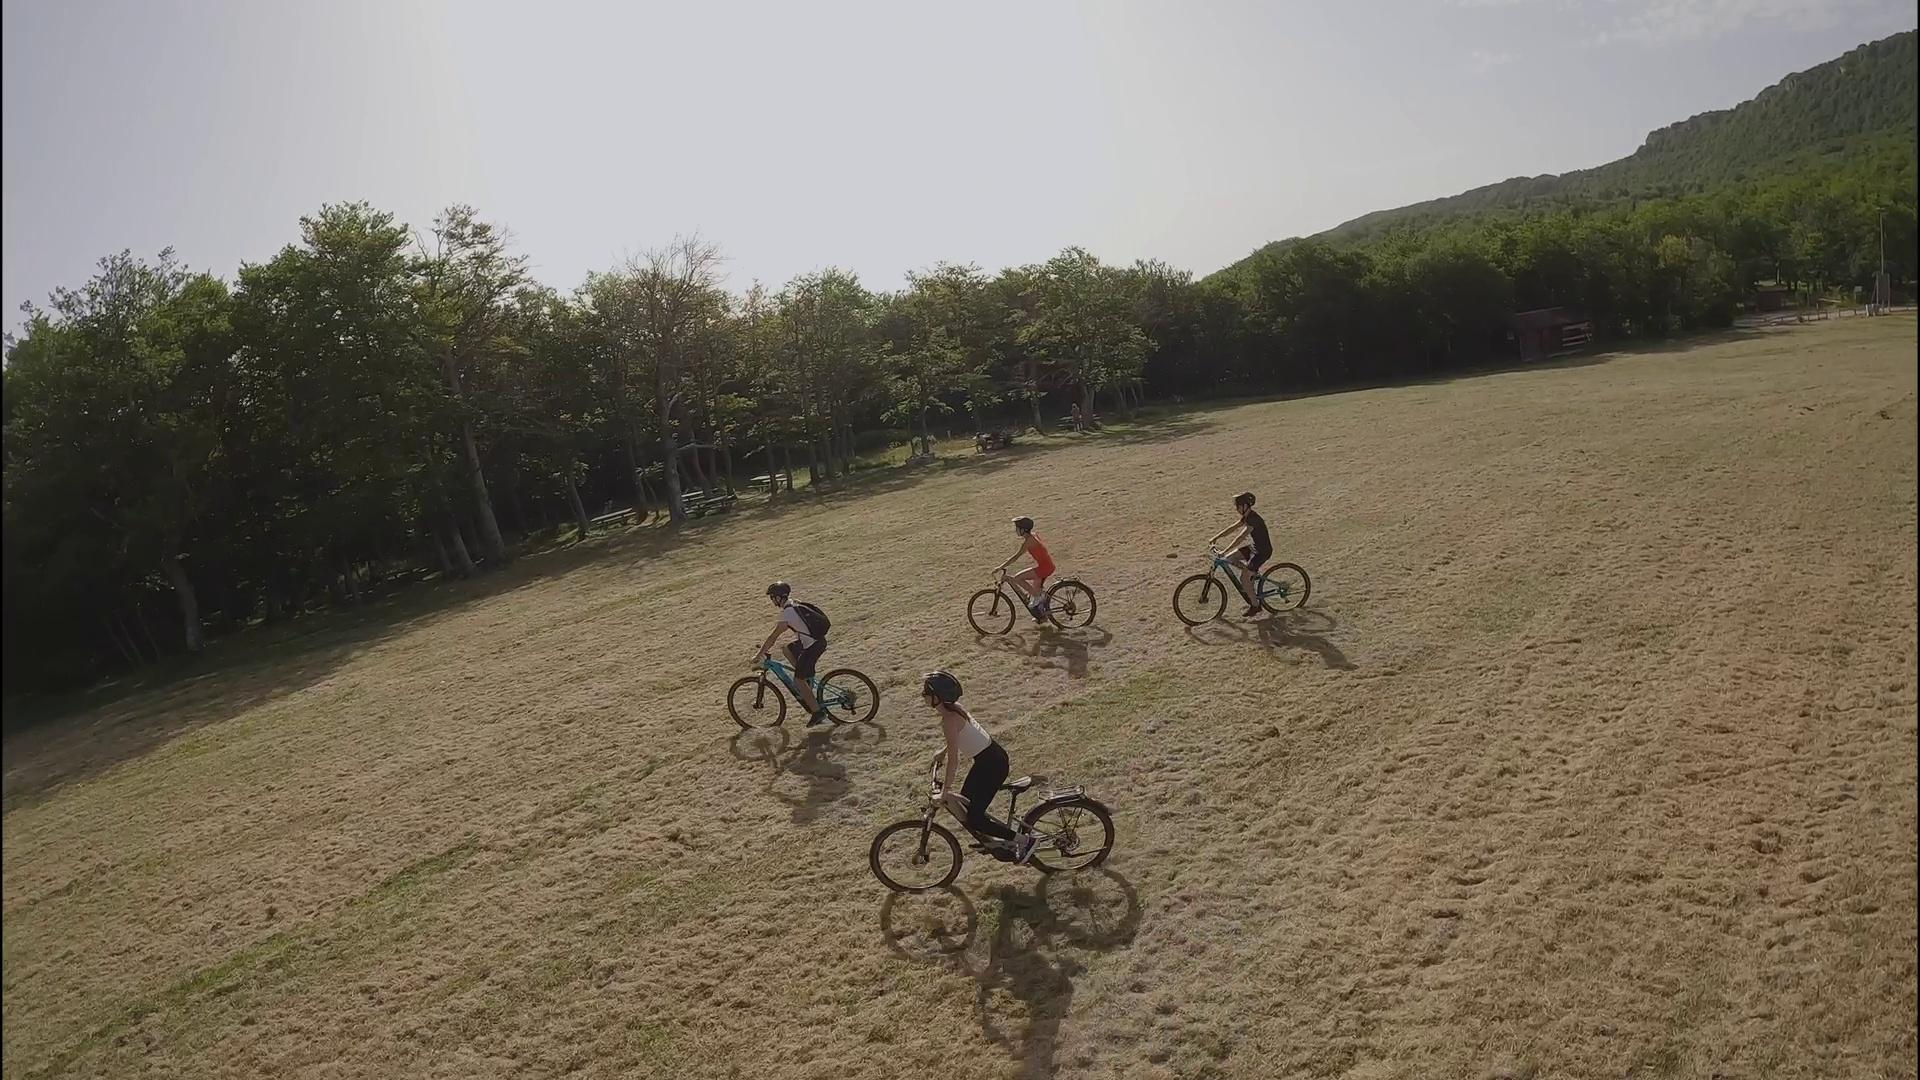bicycle: (865, 757, 1116, 897), (1171, 541, 1315, 628), (729, 649, 880, 732), (968, 563, 1097, 637)
horse: (919, 671, 1039, 865), (745, 579, 833, 728), (1208, 495, 1273, 620), (992, 512, 1059, 615)
